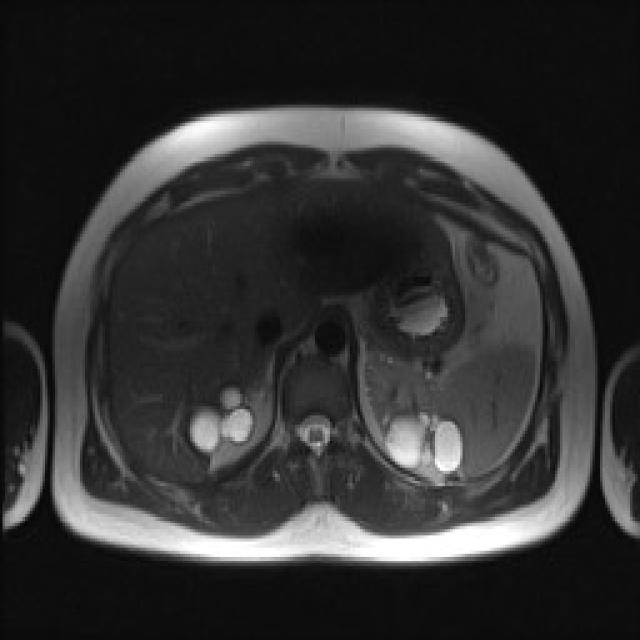sag: (189, 380, 255, 455)
sol: (364, 346, 465, 472)
